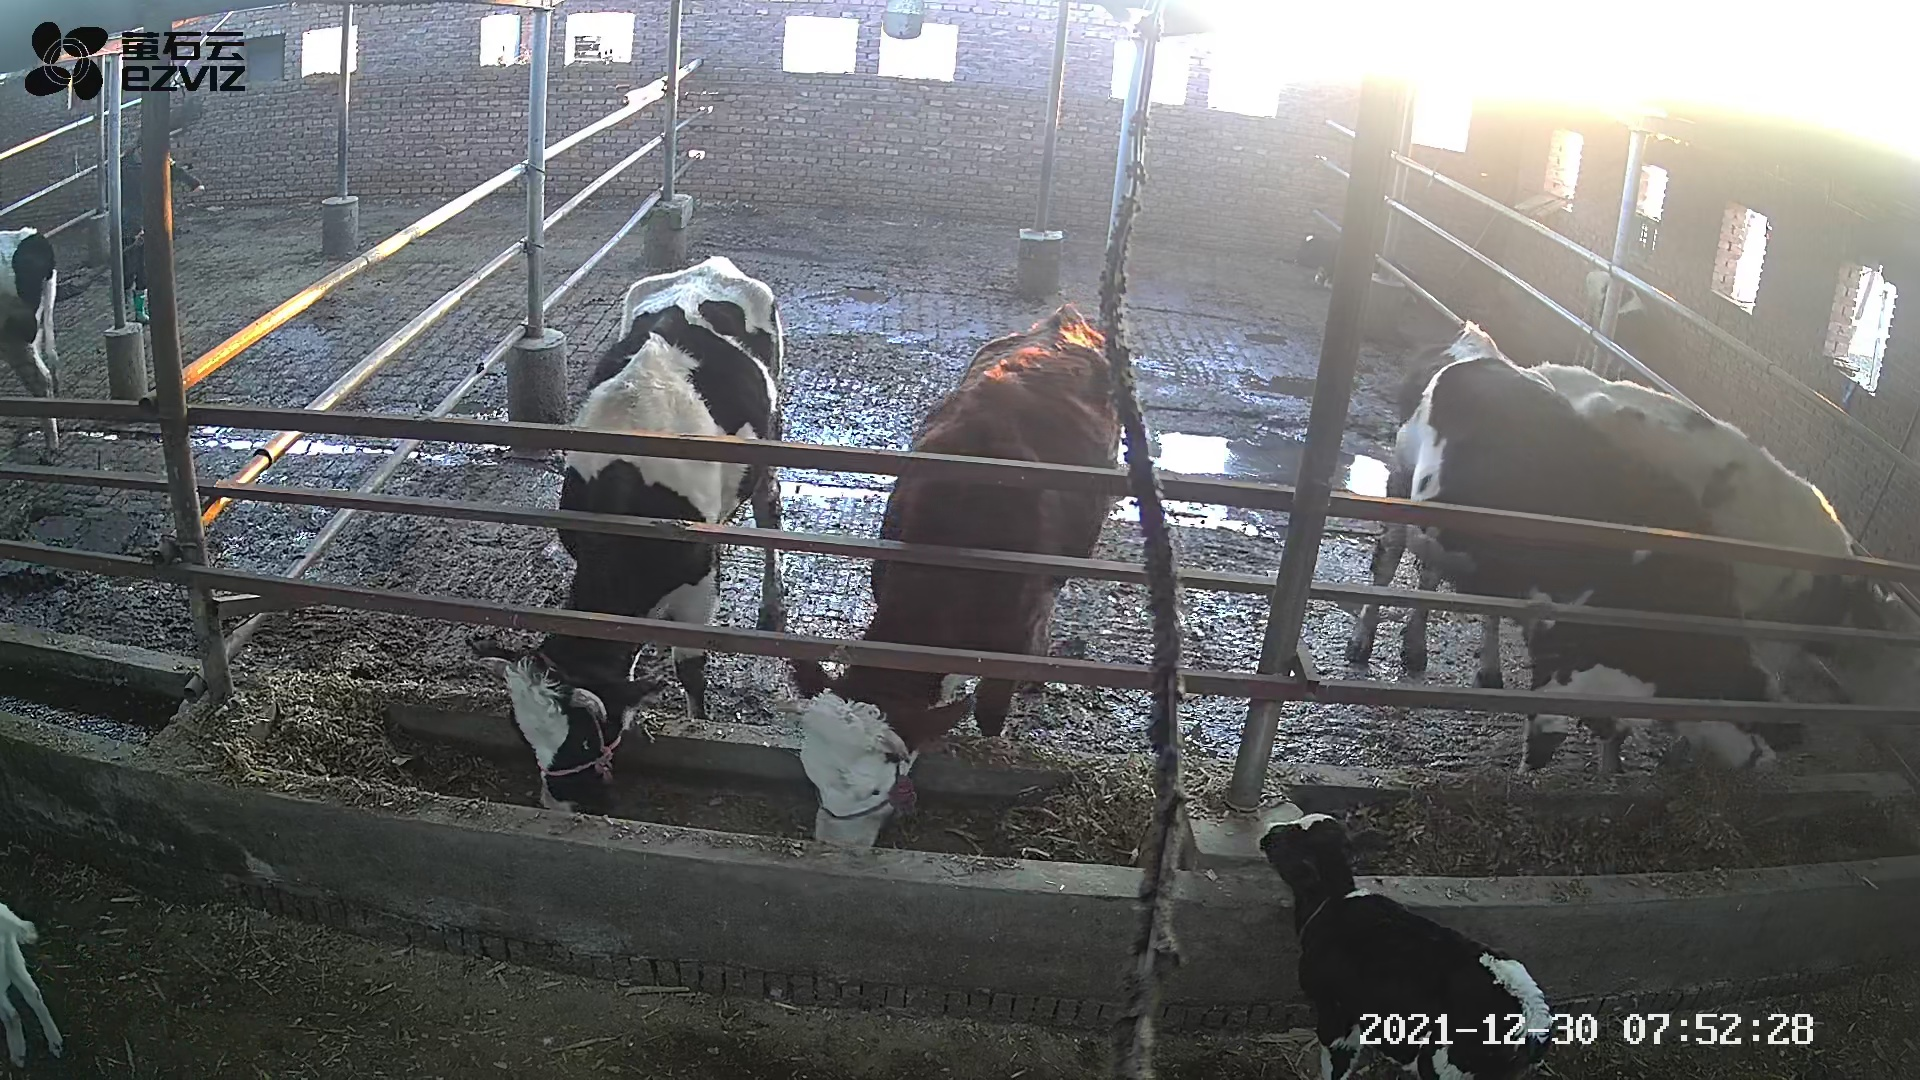cow: (1338, 316, 1803, 775), (462, 255, 787, 818), (789, 305, 1121, 851), (1466, 363, 1888, 690)
